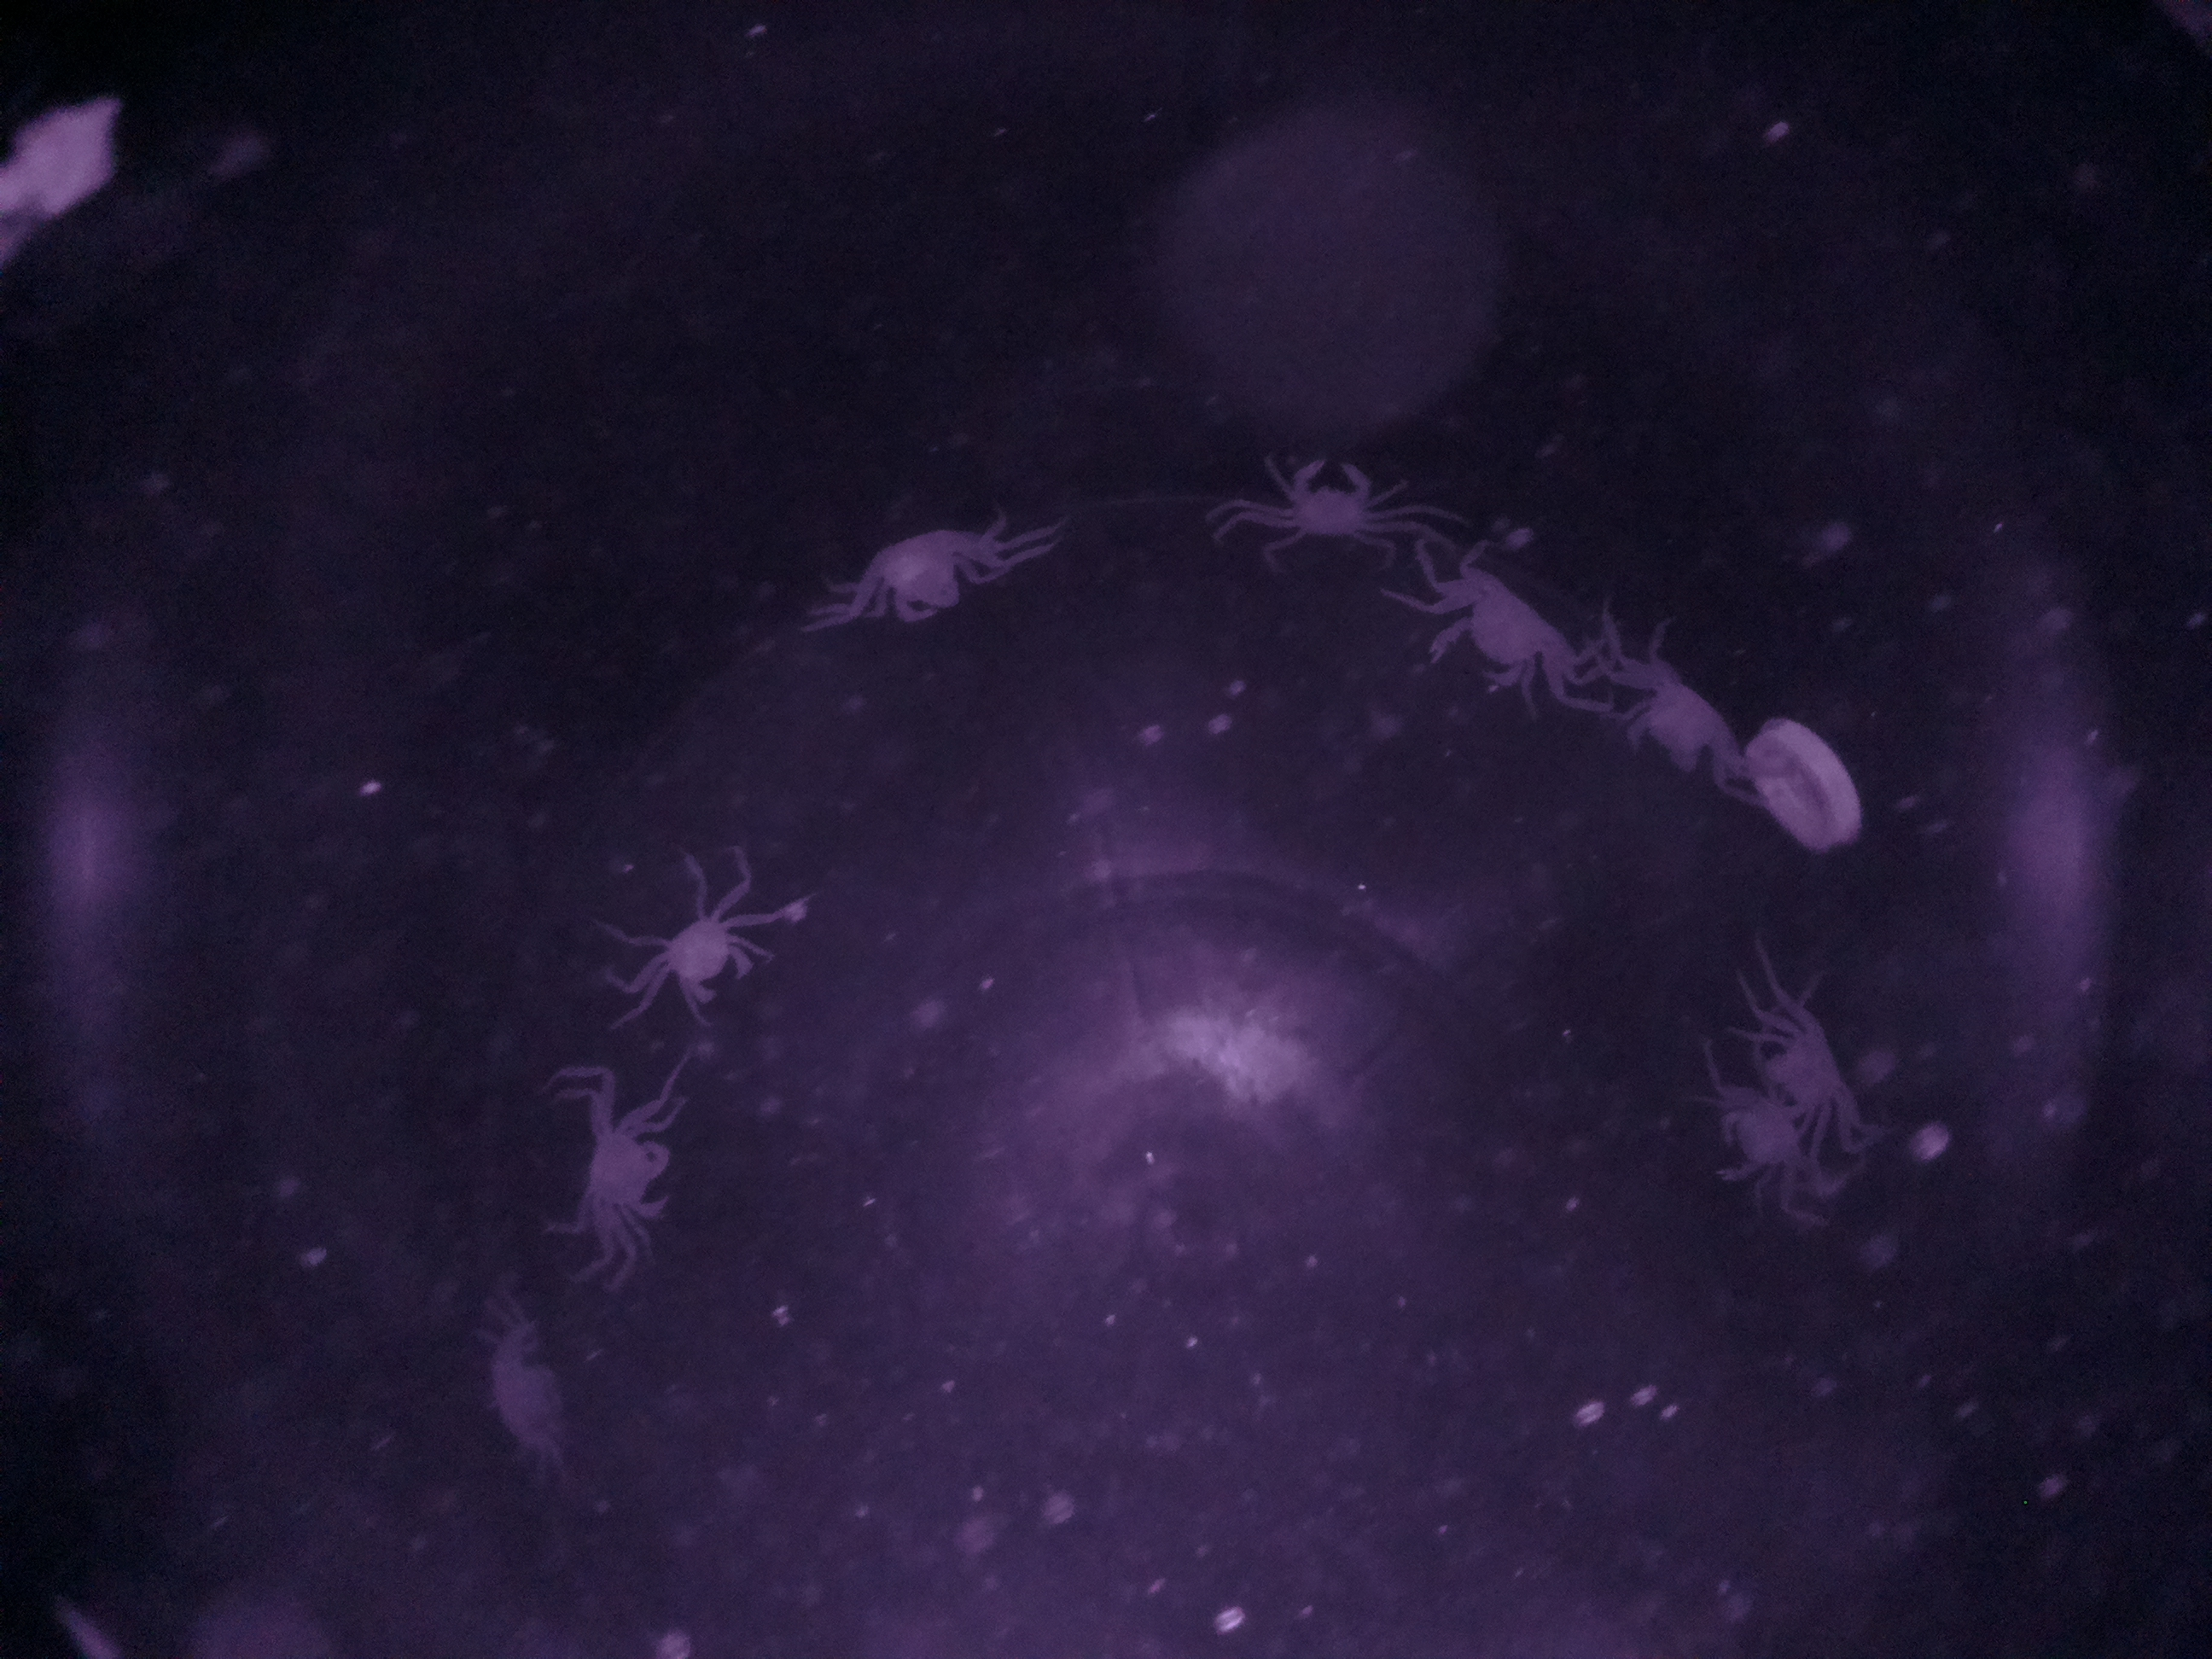Crab: (1407, 533, 1615, 714), (557, 1070, 709, 1277), (1733, 979, 1893, 1175), (1583, 645, 1764, 816), (843, 493, 1012, 655), (1242, 415, 1395, 577), (611, 882, 775, 1023)
